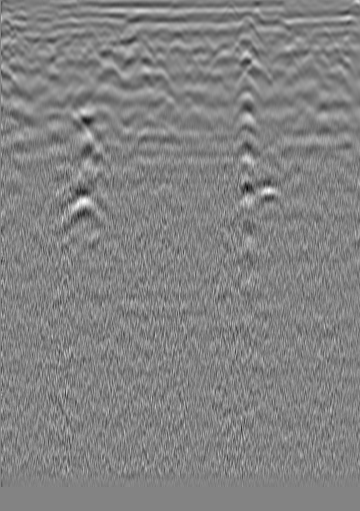가스: (248, 180, 289, 212)
상수: (0, 18, 20, 38)
오수: (309, 25, 329, 45)
우수: (133, 22, 153, 42)
